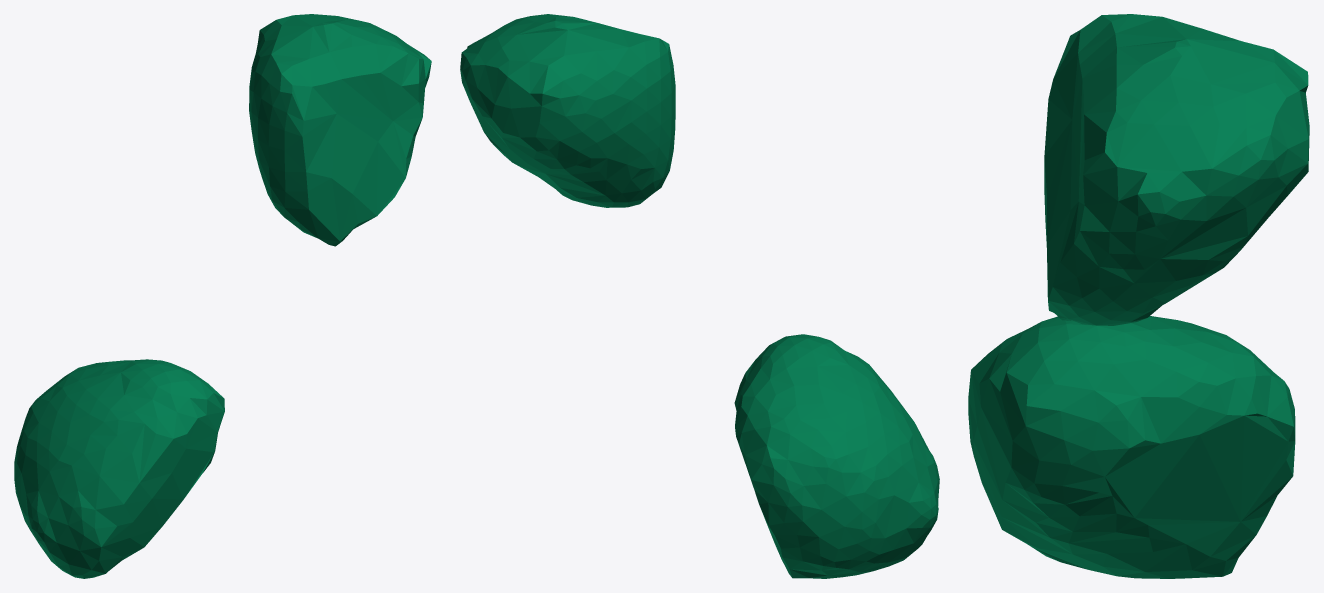
The model's file is Model_10217_LH__Intermediate_endopiriform_nucleus_(IEn).obj.
The picture shows the model from 3 angles, left to right: view 1: azimuth 30°, elevation 25°; view 2: azimuth 150°, elevation 25°; view 3: azimuth 270°, elevation 25°; orthographic projection. The views are drawn at different scales.
Size of the model in its own units: 2 by 2.13 by 0.9073.
